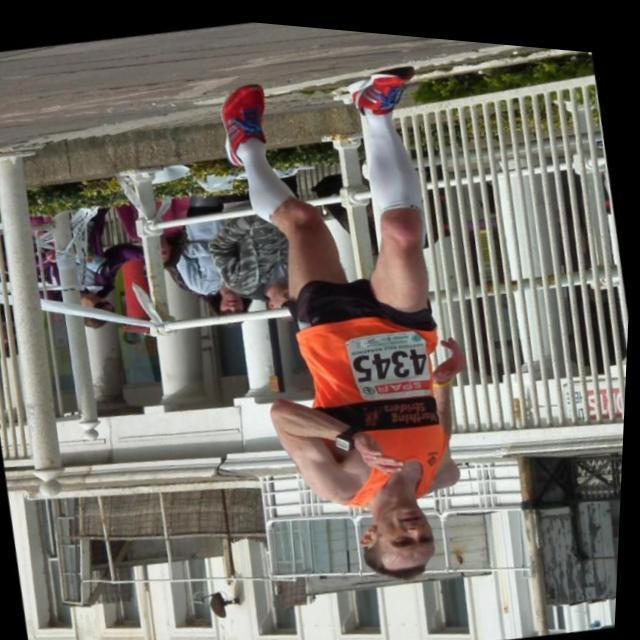dorsal: (334, 309, 449, 412)
